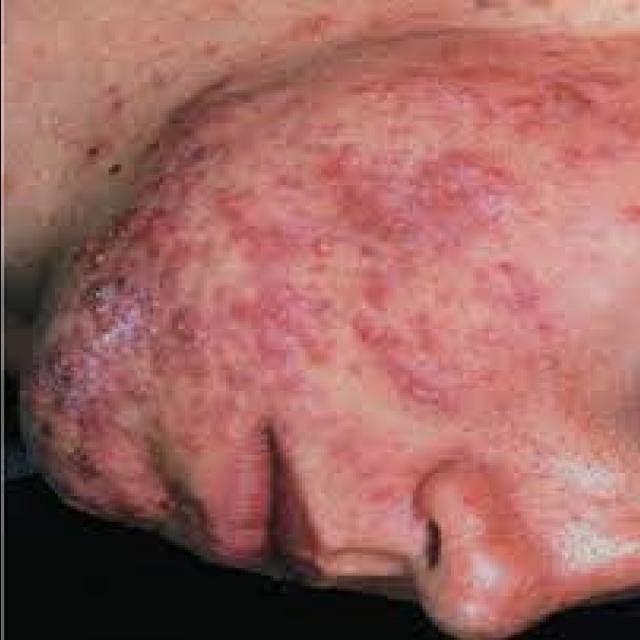Acne: (133, 125, 229, 198), (228, 281, 316, 359), (80, 276, 158, 354), (446, 148, 516, 228), (340, 180, 426, 238), (102, 200, 192, 255), (542, 65, 629, 120), (34, 344, 104, 410), (472, 258, 546, 314), (385, 365, 461, 415), (346, 308, 418, 359), (228, 220, 304, 267), (508, 94, 546, 142), (362, 268, 402, 310), (306, 233, 341, 261)
